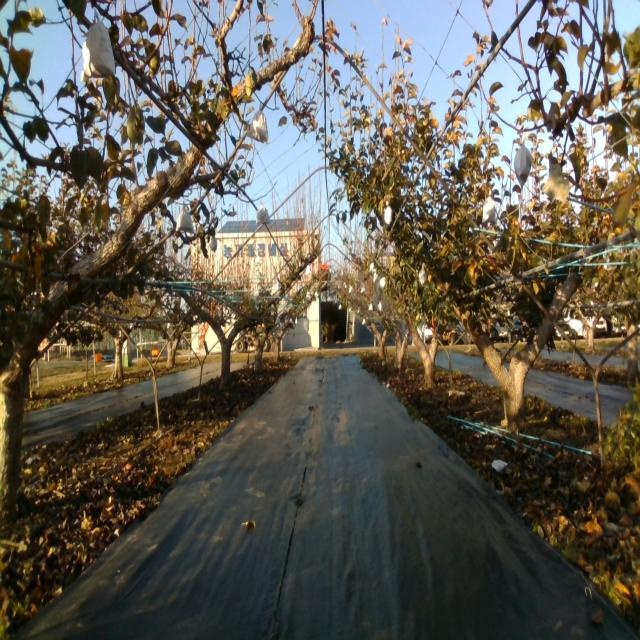pearbags: (80, 20, 116, 82), (514, 145, 533, 187), (246, 109, 268, 142), (174, 208, 194, 238), (482, 197, 496, 225), (256, 203, 270, 224)
